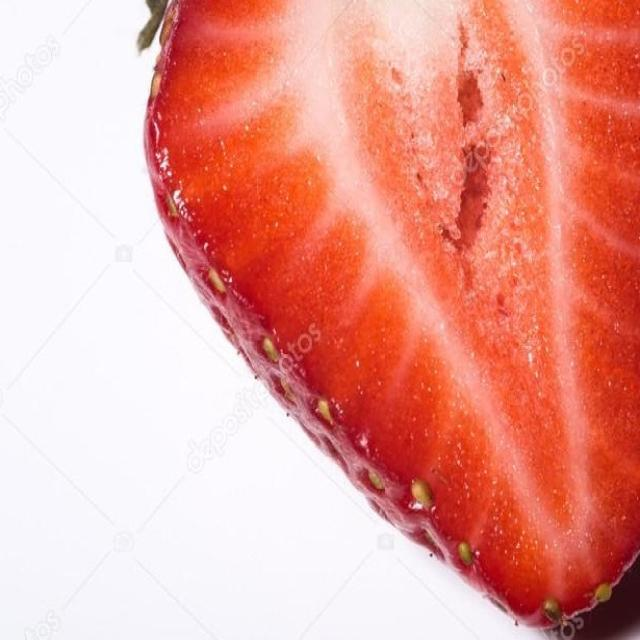strawberry: (128, 0, 640, 640)
